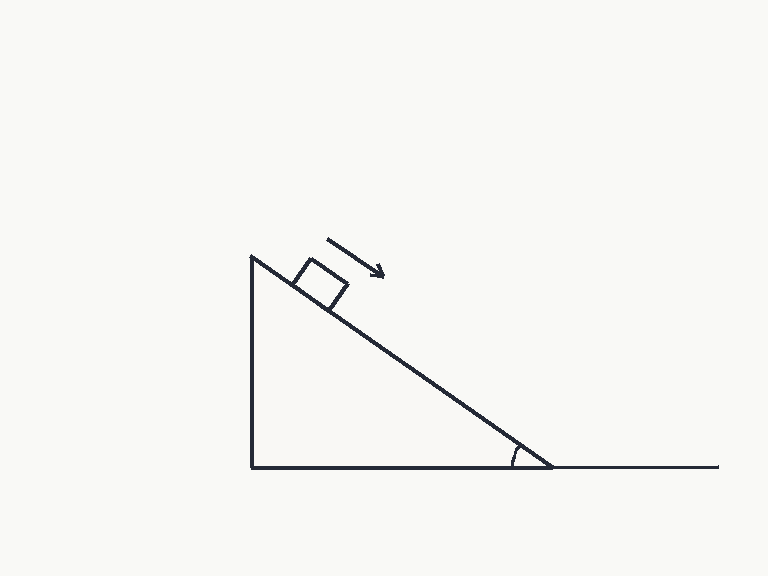block: (290, 256, 349, 312)
ramp: (249, 254, 554, 469)
